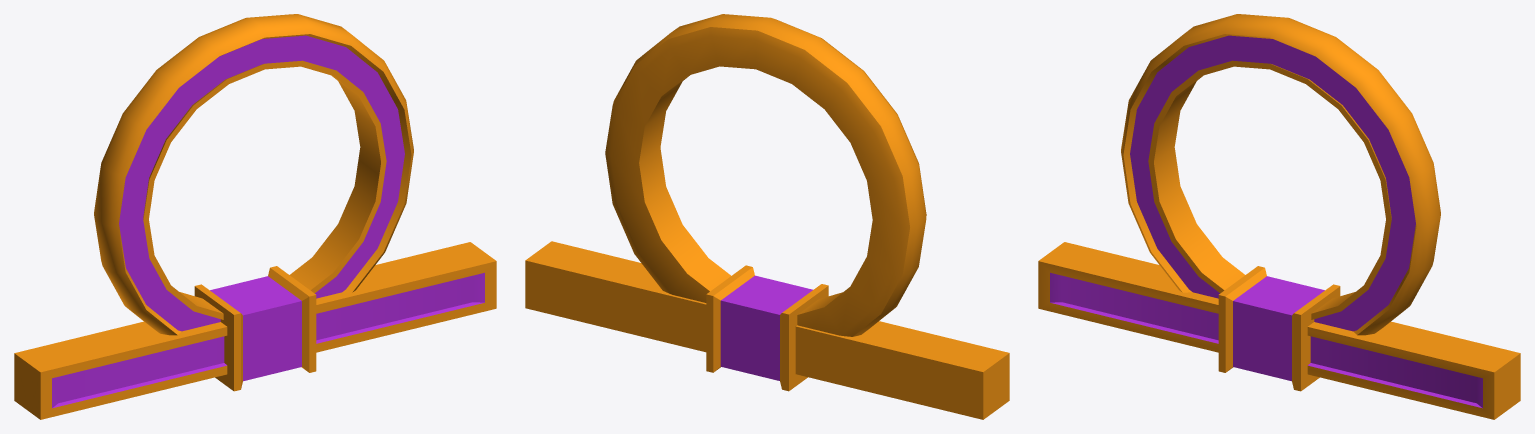
File: egypt_circl1e.fbx
3 renders of one model, left to right at view 1: azimuth 30°, elevation 25°; view 2: azimuth 150°, elevation 25°; view 3: azimuth 330°, elevation 25°, orthographic.
Visible parts, largest first — view 1: Circle, Cube, Cube.002; view 2: Circle, Cube, Cube.002; view 3: Circle, Cube, Cube.002.
Part boxes in pixels (x1,y1,x2,y2): Circle: [94, 14, 413, 335]; Cube: [14, 242, 496, 419]; Cube.002: [194, 266, 316, 391]; Circle: [605, 14, 926, 336]; Cube: [525, 241, 1009, 419]; Cube.002: [706, 265, 828, 391]; Circle: [1121, 14, 1440, 335]; Cube: [1038, 242, 1520, 419]; Cube.002: [1218, 266, 1340, 391].
Size of the model in its own units: 294 by 213 by 44.15.
